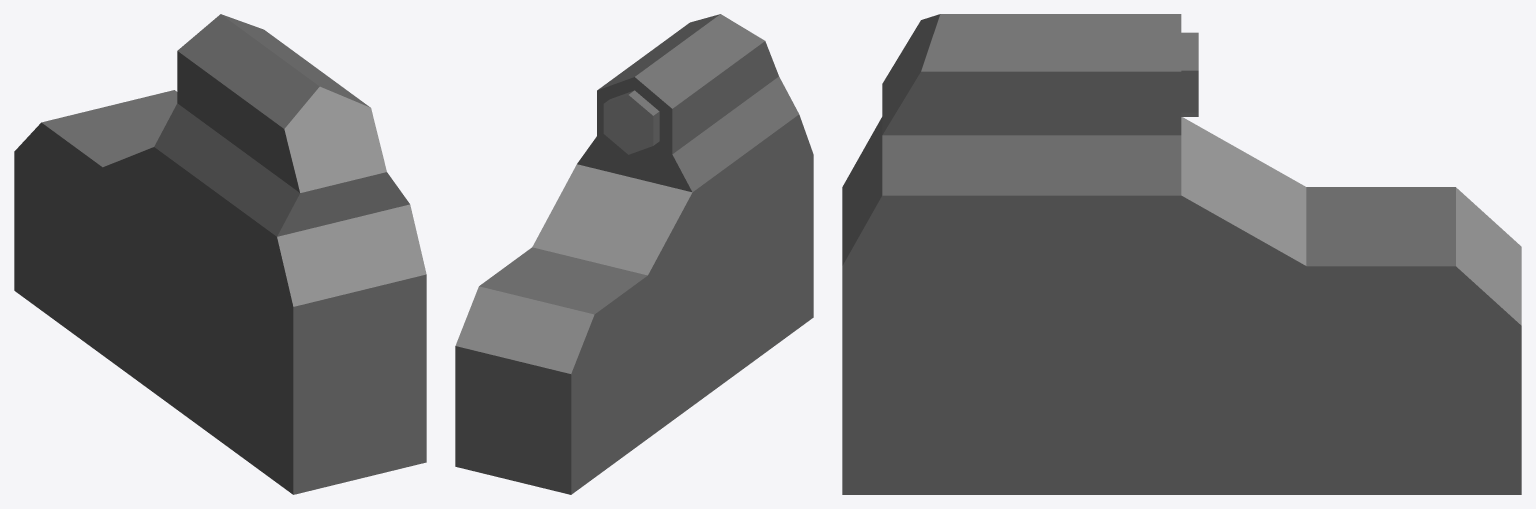
File: MW1_IronSight_Front_Welded_01.fbx
3 views of the same model, side by side, from view 1: azimuth 30°, elevation 25°; view 2: azimuth 150°, elevation 25°; view 3: azimuth 270°, elevation 25° (orthographic). The views are drawn at different scales.
Parts seen in each view (by area): view 1: IronSight_Front_Welded_01; view 2: IronSight_Front_Welded_01; view 3: IronSight_Front_Welded_01.
Part boxes in pixels (left/top/right/bottom): IronSight_Front_Welded_01: left=14, top=14, right=426, bottom=494; IronSight_Front_Welded_01: left=455, top=14, right=813, bottom=494; IronSight_Front_Welded_01: left=842, top=14, right=1521, bottom=494.
Bounding box in the file's own units: 0.8546 × 2.22 × 3.1.
